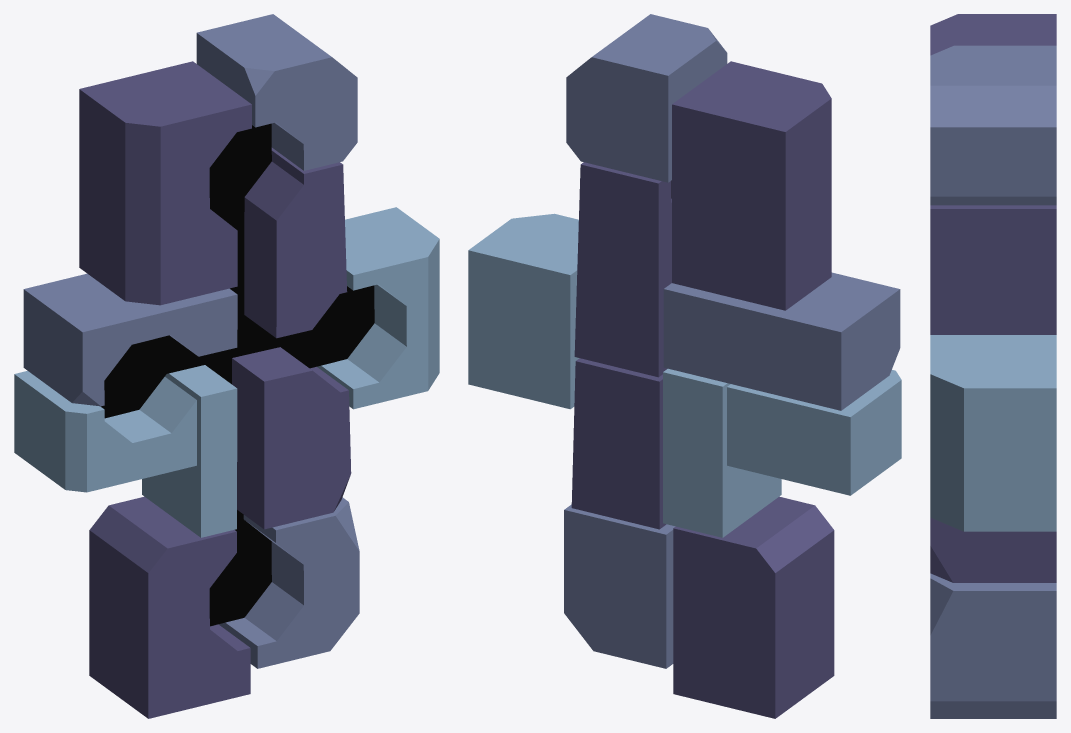
File: Window_LoopHole_Kross_02.fbx
3 renders of one model, left to right at view 1: azimuth 30°, elevation 25°; view 2: azimuth 150°, elevation 25°; view 3: azimuth 270°, elevation 25°, orthographic. The views are drawn at different scales.
Parts seen in each view (by area): view 1: Window_LoopHole_Kross_2; view 2: Window_LoopHole_Kross_2; view 3: Window_LoopHole_Kross_2.
Part boxes in pixels (x1,y1,x2,y2): Window_LoopHole_Kross_2: (14,14,439,718); Window_LoopHole_Kross_2: (468,14,901,718); Window_LoopHole_Kross_2: (930,14,1056,718).
Size of the model in its own units: 202 by 311 by 53.88.
